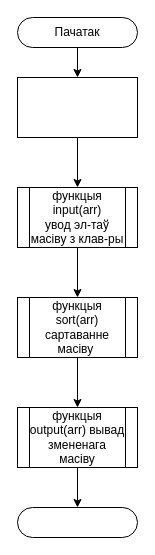
Some shapes in this 155 by 555 pixel diagram are drawn without their labels. The shapes that lost their labels are listed below. From the top down, each one's centre as x and y in pixels, then its label:
At (77,107): "Ув: arr2D[M][N] - двумерн.мас. цэл. л. Вых: arr[N] - адсартаваны масіў".
At (77,522): "Канец".
